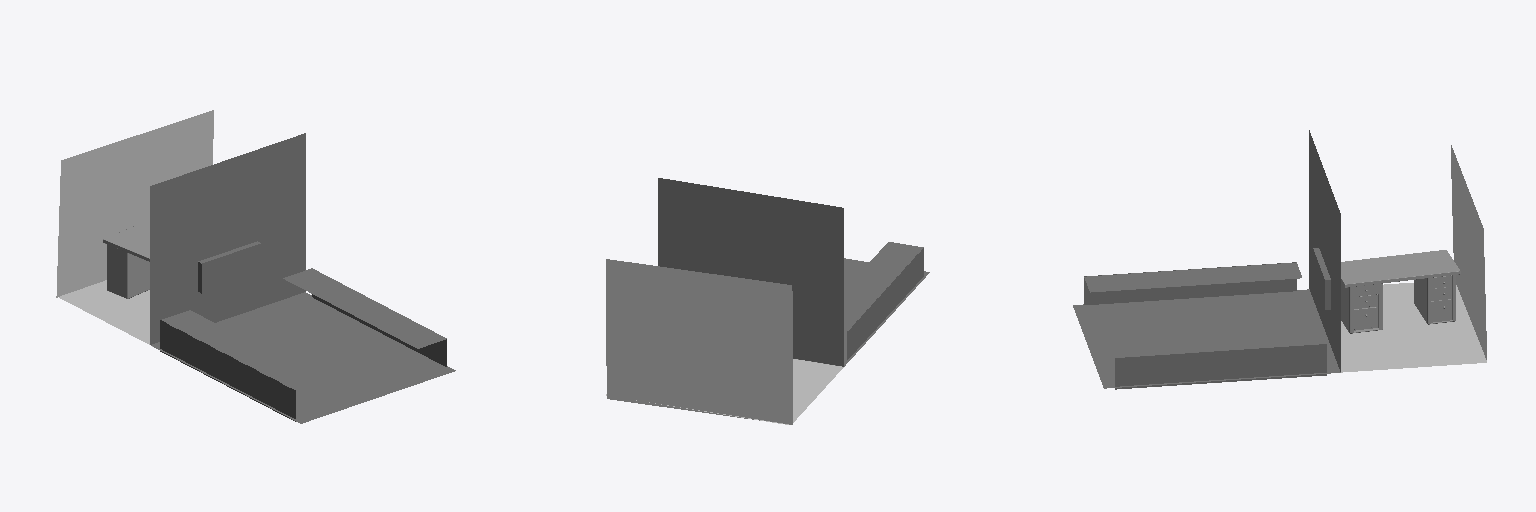
Rendered from stul.obj.
The picture shows the model from 3 angles: view 1: azimuth 30°, elevation 25°; view 2: azimuth 150°, elevation 25°; view 3: azimuth 270°, elevation 25°; orthographic projection.
Visible parts, largest first — view 1: Plane.001, Plane.002, Plane, Desk_Base, Desk_Planche; view 2: Plane.002, Plane.001, Plane; view 3: Plane.001, Plane, Plane.002, Desk_Planche, Desk_Base, Desk_Base-.
Boxes of the visible parts, <box> form: Plane.001: <box>150,133,455,423</box>; Plane.002: <box>56,110,213,297</box>; Plane: <box>59,280,152,346</box>; Desk_Base: <box>107,244,149,298</box>; Desk_Planche: <box>103,224,149,261</box>; Plane.002: <box>606,259,792,424</box>; Plane.001: <box>658,178,929,366</box>; Plane: <box>606,359,843,424</box>; Plane.001: <box>1073,130,1340,389</box>; Plane: <box>1341,283,1486,372</box>; Plane.002: <box>1451,145,1486,359</box>; Desk_Planche: <box>1341,250,1460,287</box>; Desk_Base: <box>1414,275,1455,324</box>; Desk_Base-: <box>1341,282,1382,333</box>.
Size of the model in its own units: 344 by 237 by 550.